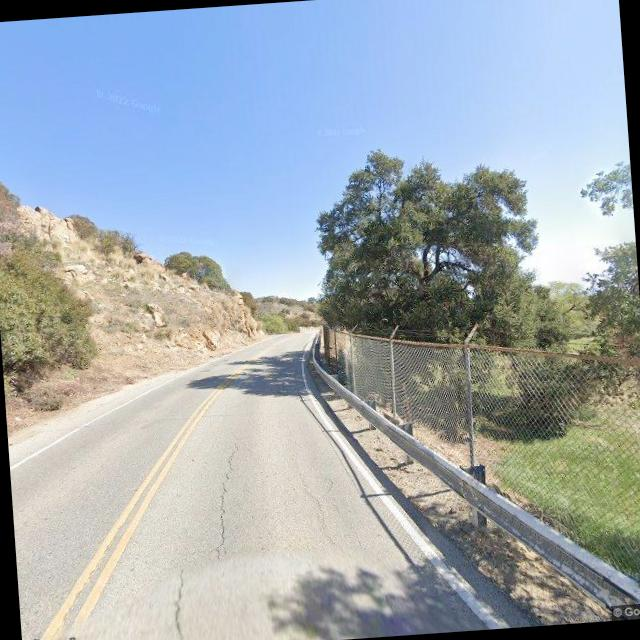pothole: (208, 424, 243, 554), (165, 562, 193, 640)
